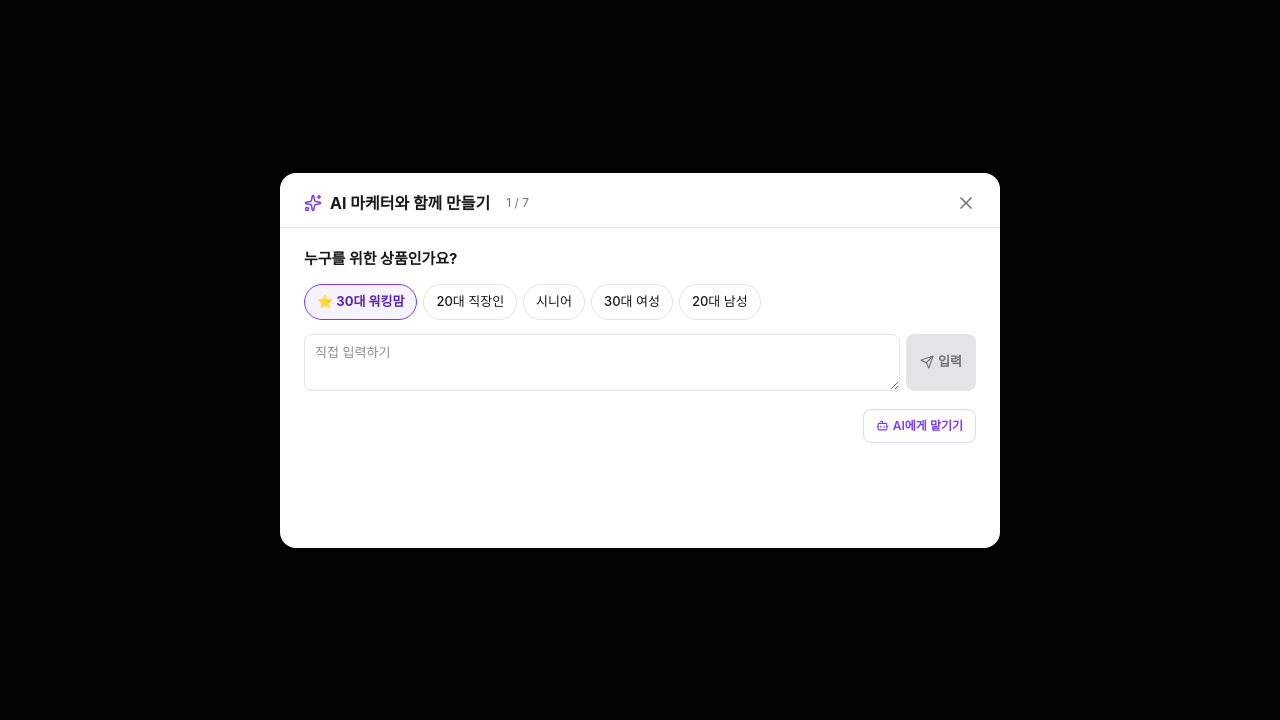
Test: ConversationalDetailModal › 자유 입력 후 입력 버튼 클릭 시 다음 질문으로 진행
Expected: the heading "누구를 위한 상품인가요?" is shown, left=304, top=248, right=458, bottom=268
In the text box with placeholder "직접 입력하기": (602, 362) left=304, top=334, right=900, bottom=390, type "커스텀 타겟"
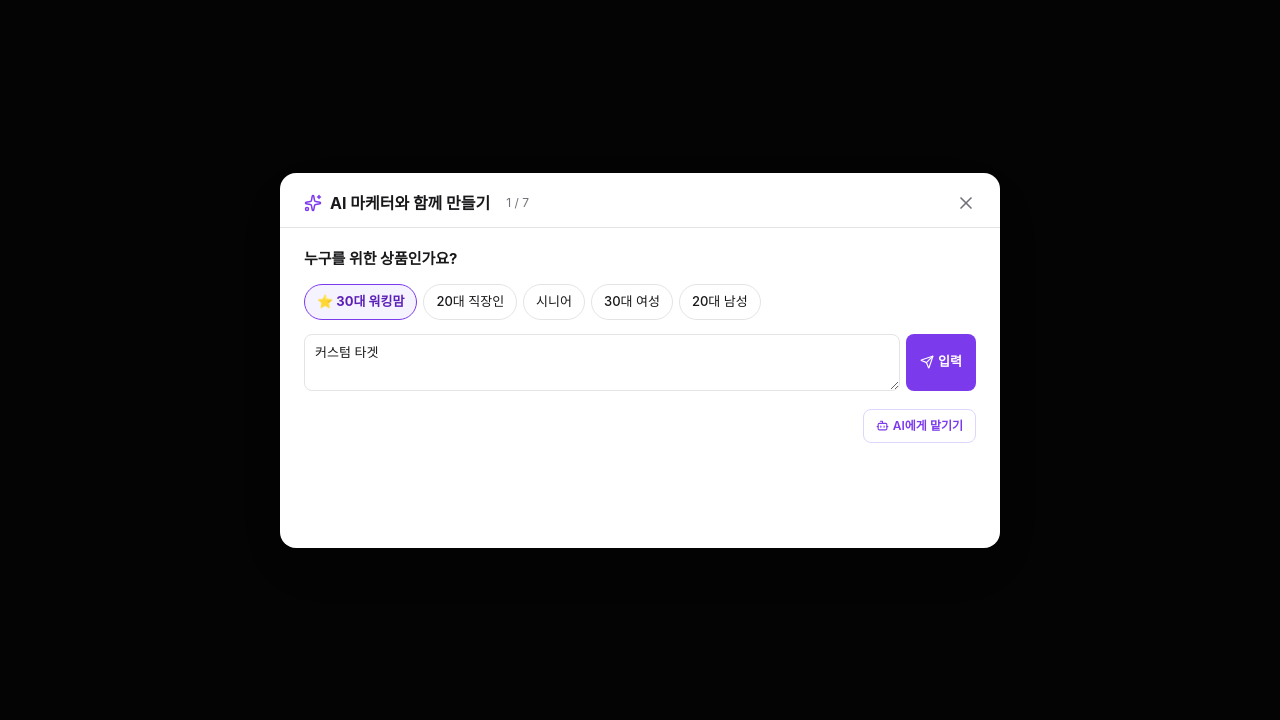
Click the button "입력": (941, 362) left=906, top=334, right=976, bottom=390
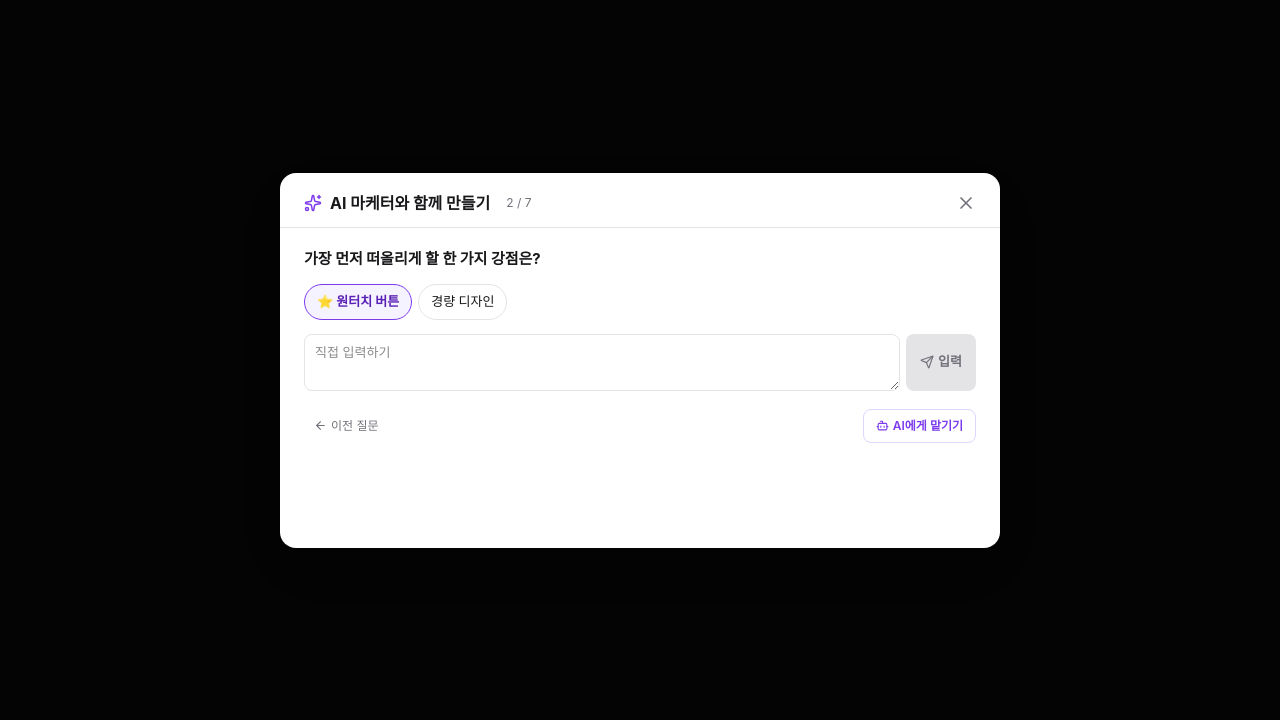
Result: the heading "가장 먼저 떠올리게 할 한 가지 강점은?" is shown at left=304, top=248, right=541, bottom=268
